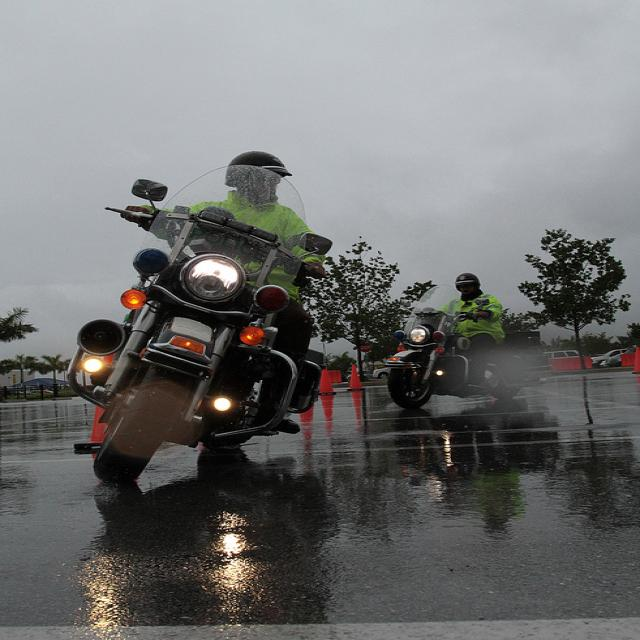motor: (63, 178, 334, 484), (381, 284, 549, 410)
